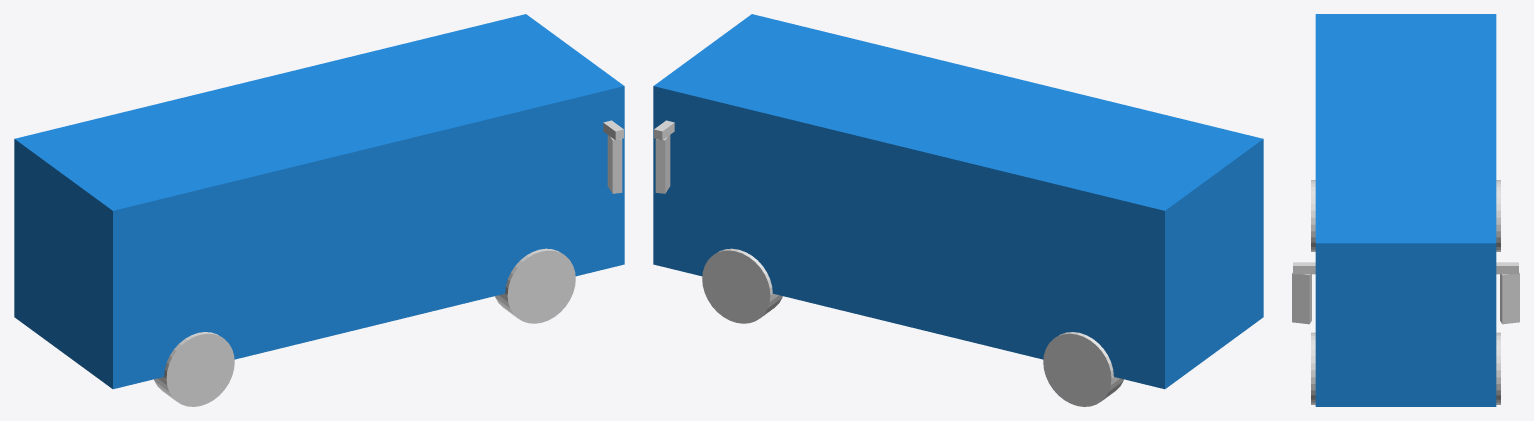
Rendered from busFinal.gltf.
3 renders of one model, left to right at view 1: azimuth 30°, elevation 25°; view 2: azimuth 150°, elevation 25°; view 3: azimuth 270°, elevation 25°, orthographic. The views are drawn at different scales.
Parts seen in each view (by area): view 1: bus, roda4, roda3, EspD.001; view 2: bus, roda2, roda, EspD; view 3: bus, EspD, EspD.001, roda, roda3, roda2, roda4, RetroEs1, RetroD.
Part boxes in pixels (box(x1,y1,x2,y2)): bus: box(14, 14, 624, 389); roda4: box(154, 332, 234, 406); roda3: box(495, 248, 575, 323); EspD.001: box(607, 135, 622, 193); bus: box(653, 14, 1263, 389); roda2: box(1043, 332, 1123, 406); roda: box(702, 248, 782, 323); EspD: box(655, 135, 670, 193); bus: box(1315, 14, 1496, 406); EspD: box(1500, 272, 1519, 324); EspD.001: box(1292, 272, 1311, 324); roda: box(1496, 332, 1500, 404); roda3: box(1311, 332, 1315, 404); roda2: box(1496, 180, 1500, 251); roda4: box(1311, 180, 1315, 251); RetroEs1: box(1496, 262, 1518, 274); RetroD: box(1293, 262, 1315, 274).
Size of the model in its own units: 6 by 2.4 by 2.52.
Materials: 1 (1 with a texture image).
